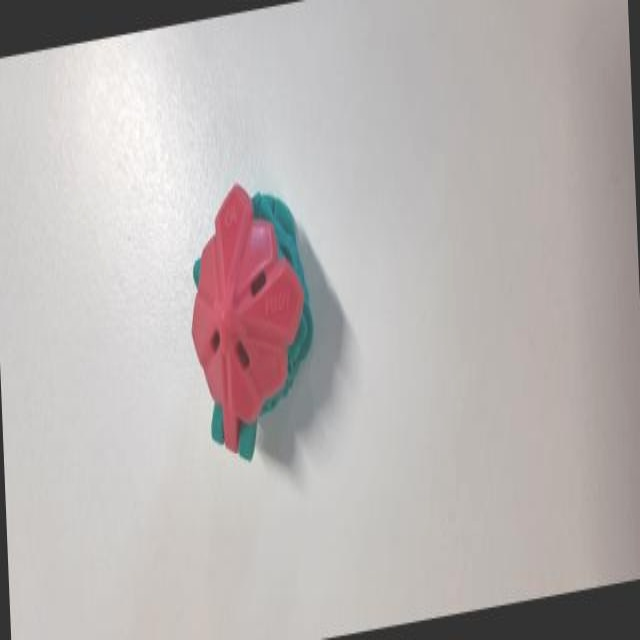House: (175, 125, 332, 483)
